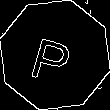P_N: (30, 26, 80, 84)
